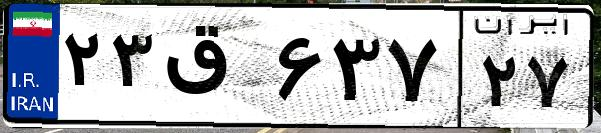2: (57, 26, 110, 100), (475, 38, 525, 113)
3: (330, 28, 385, 110), (110, 28, 158, 98)
6: (270, 28, 330, 110)
7: (385, 28, 445, 110), (525, 38, 570, 115)
ق: (158, 20, 270, 120)
